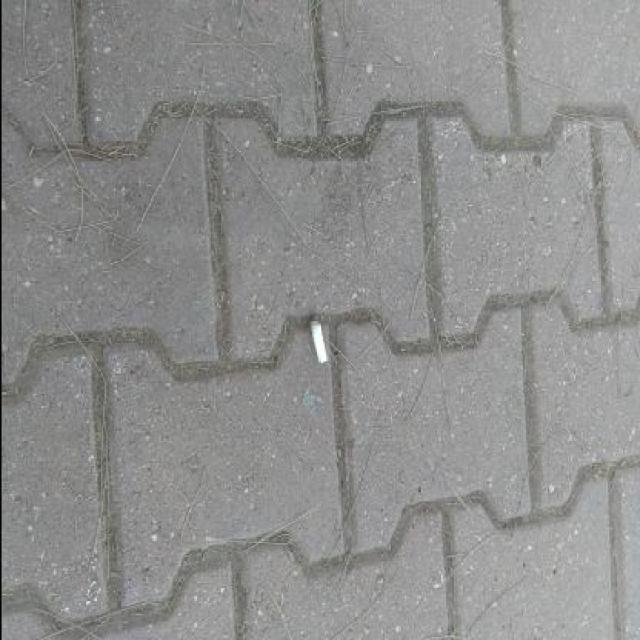other: (308, 317, 327, 363)
